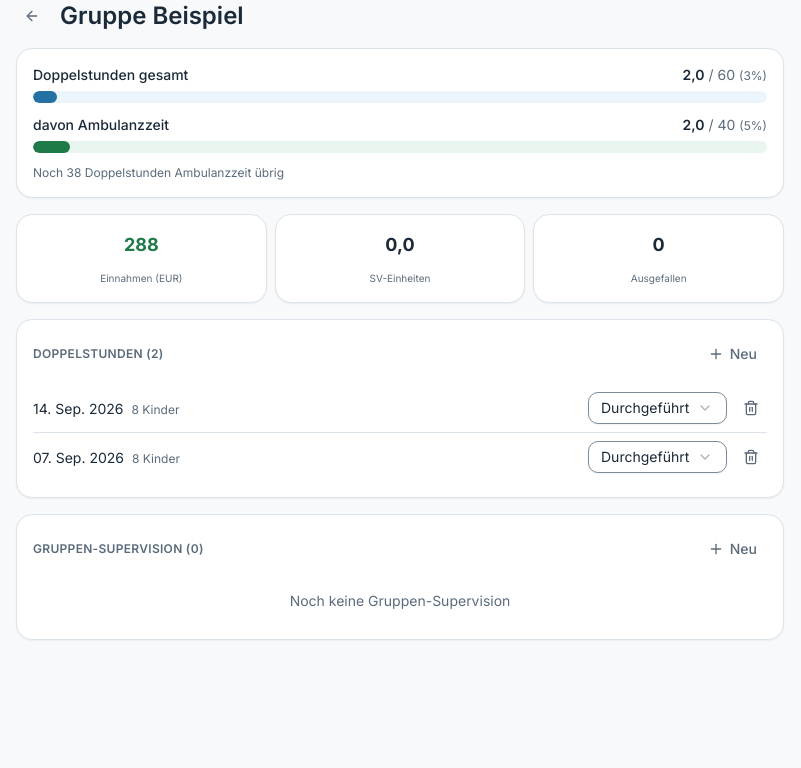
Test: GroupDetailClient › bietet eine Doppelstunde, die eine Supervision einer anderen Gruppe bespricht, nicht erneut an (#47)
What coordinates should you click on to do the following:
click the button "Neu" in the row of "Gruppen-Supervision ("
I would click on:
 (732, 549)
Its box is x1=698 y1=531 x2=767 y2=567.
(page scrolled)
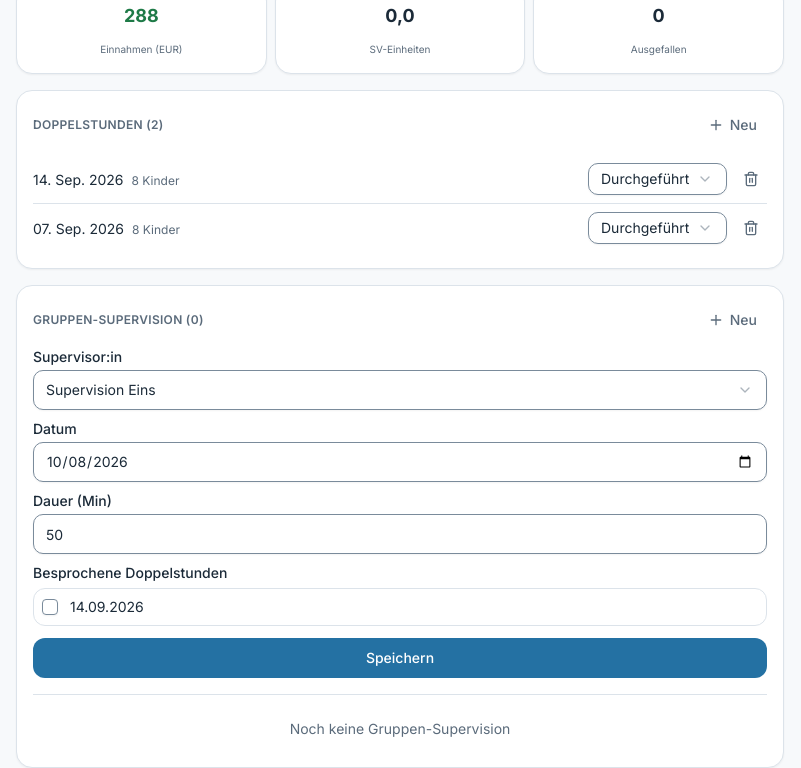
Expected: the number of checkboxes is 1, x1=42 y1=599 x2=58 y2=615
Expected: the text "14.09.2026" is shown, x1=70 y1=597 x2=144 y2=617
